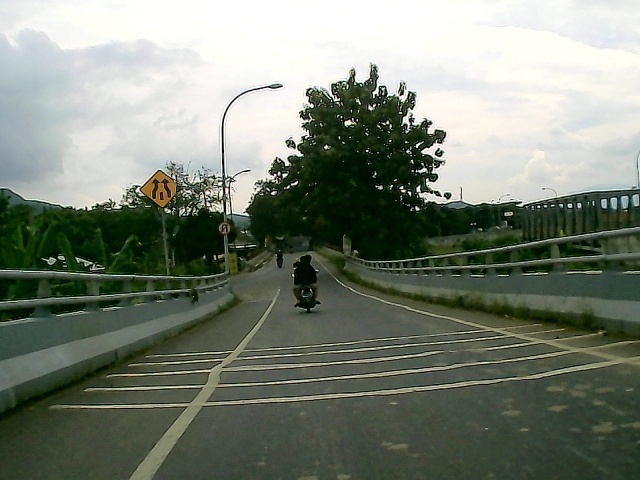Akhir bangunan pemisah satu arah: (137, 169, 181, 208)
Dilarang berbalik arah: (217, 220, 234, 236)
